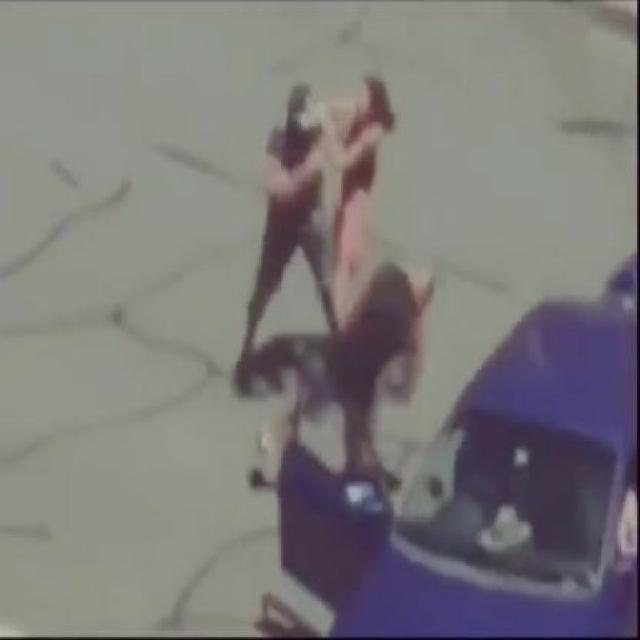fight: (238, 74, 407, 352)
